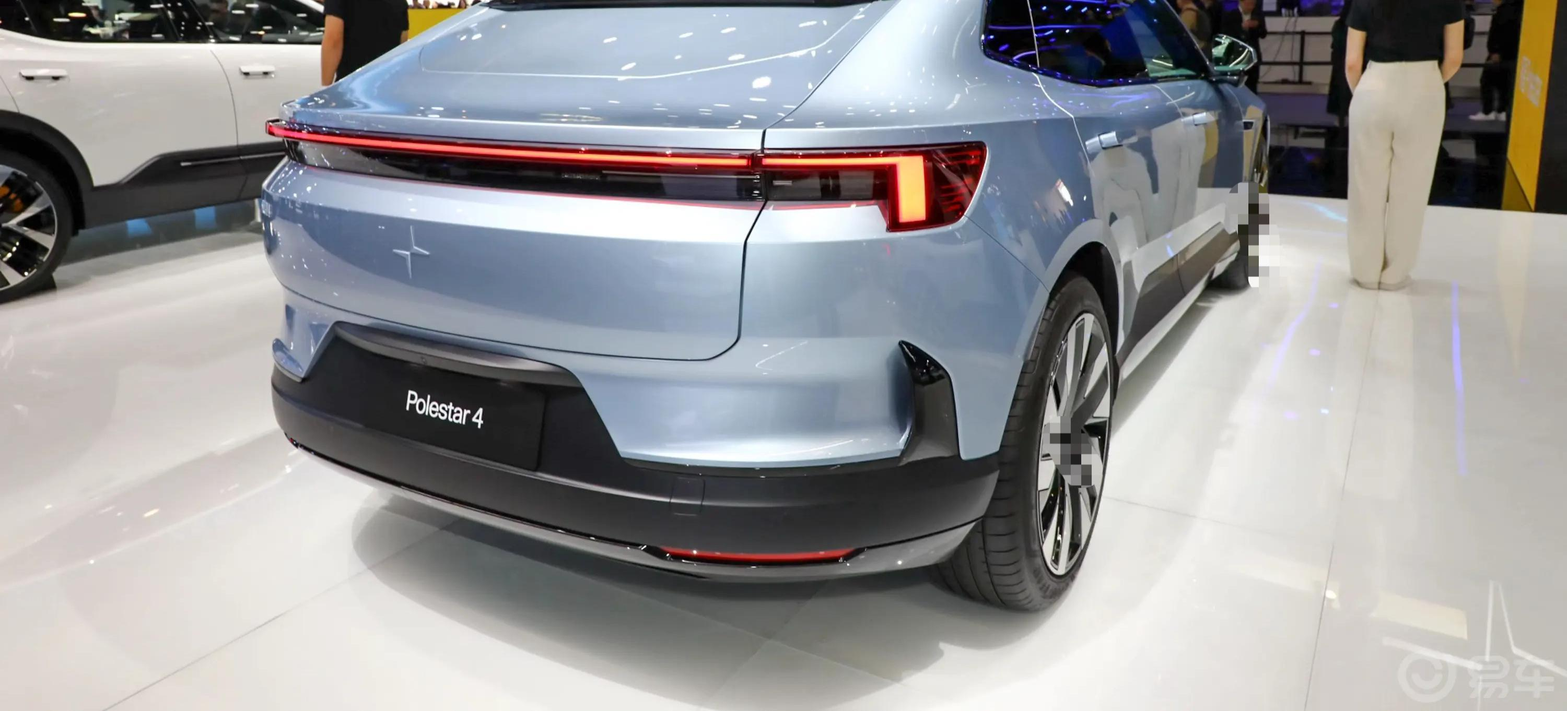Polestar: (393, 226, 429, 278)
